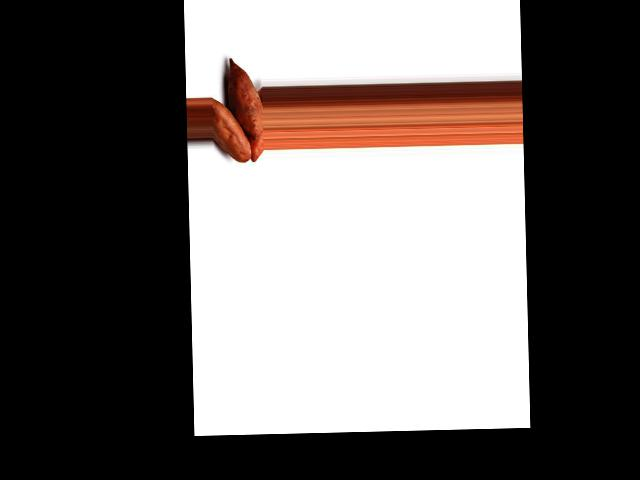sweet_potato: (211, 93, 250, 163)
